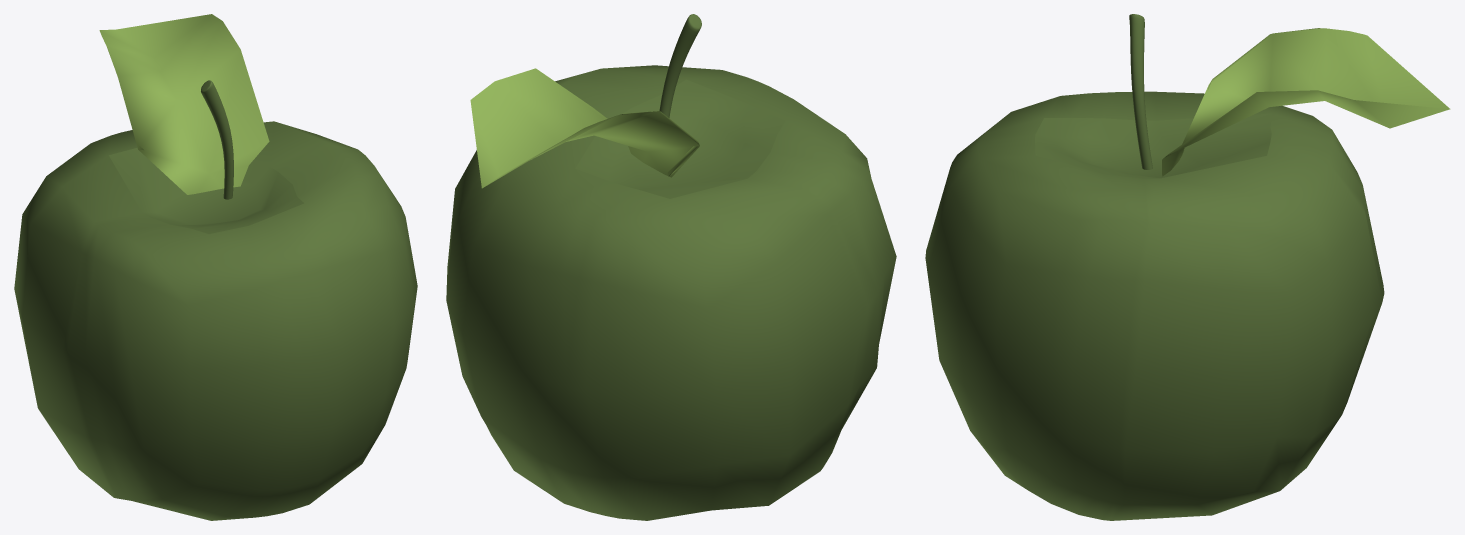
Rendered from appleGreen.fbx.
The picture shows the model from 3 angles, left to right: view 1: azimuth 30°, elevation 25°; view 2: azimuth 150°, elevation 25°; view 3: azimuth 270°, elevation 25°; orthographic projection. The views are drawn at different scales.
Visible parts, largest first — view 1: Cube, Plane, apple.002; view 2: Cube, Plane, apple.002; view 3: Cube, Plane, apple.002.
Part boxes in pixels (x1,y1,x2,y2): Cube: [14, 121, 417, 520]; Plane: [99, 14, 269, 194]; apple.002: [201, 80, 233, 199]; Cube: [446, 65, 896, 520]; Plane: [470, 68, 699, 188]; apple.002: [659, 14, 701, 117]; Cube: [925, 91, 1384, 520]; Plane: [1162, 28, 1450, 176]; apple.002: [1129, 14, 1152, 169].
Size of the model in its own units: 176 by 200 by 212.
